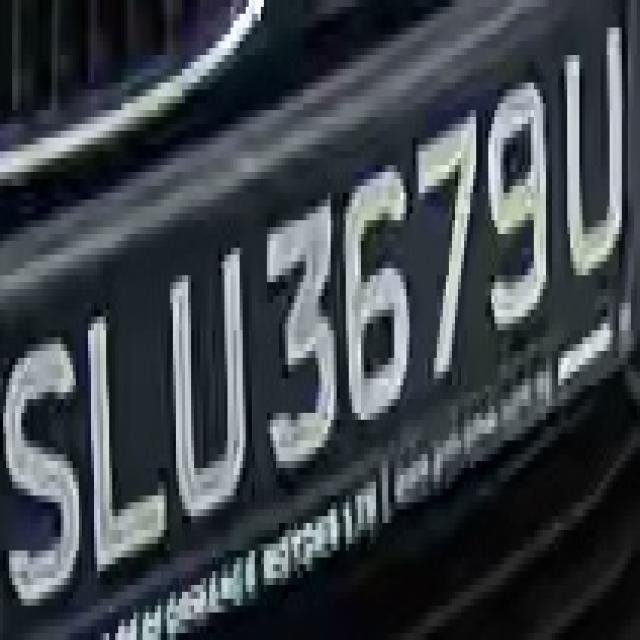3: (255, 193, 336, 482)
6: (342, 144, 418, 440)
7: (409, 104, 488, 386)
9: (482, 90, 555, 330)
L: (88, 275, 170, 585)
S: (9, 310, 88, 619)
U: (158, 241, 252, 550), (558, 34, 634, 276)
